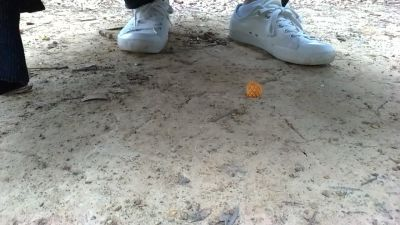eggs: (246, 80, 264, 99)
